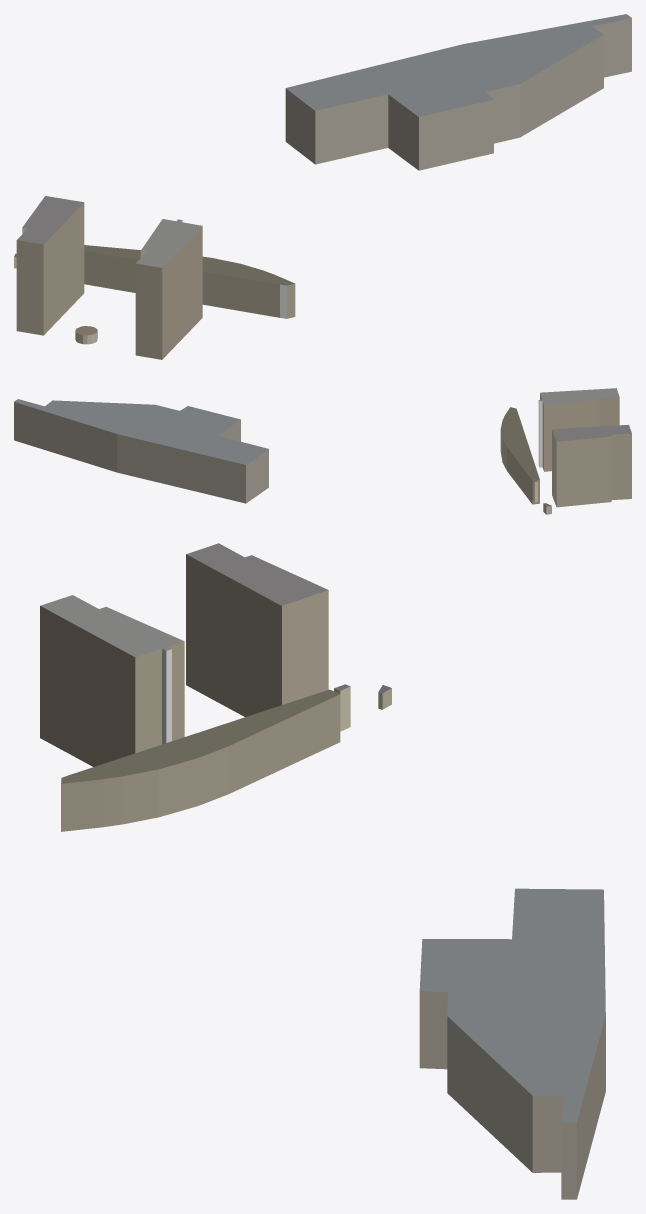
3 views of the same model, one above another, from view 1: azimuth 30°, elevation 25°; view 2: azimuth 150°, elevation 25°; view 3: azimuth 270°, elevation 25° (orthographic). The views are drawn at different scales.
Parts seen in each view (by area): view 1: tuile; view 2: tuile; view 3: tuile.
Part boxes in pixels (<box>): tuile: <box>14,14,631,359</box>; tuile: <box>14,388,631,514</box>; tuile: <box>40,543,605,1199</box>.
Bounding box in the file's own units: 325 × 41.35 × 151.
